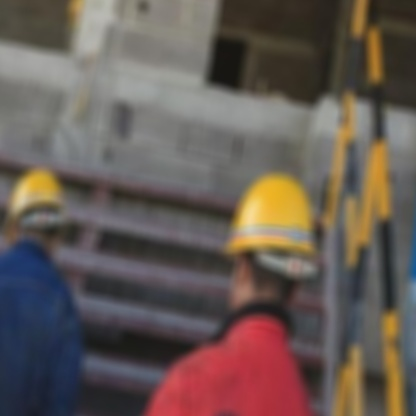yellow: (216, 157, 337, 275), (2, 159, 78, 248)
